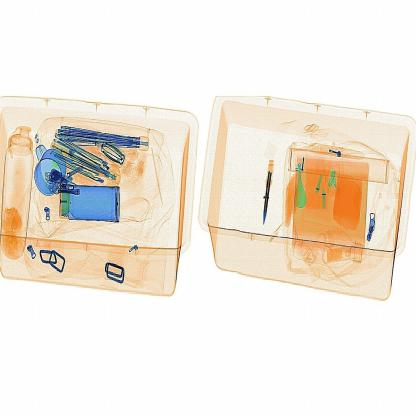gun: (252, 148, 282, 225)
